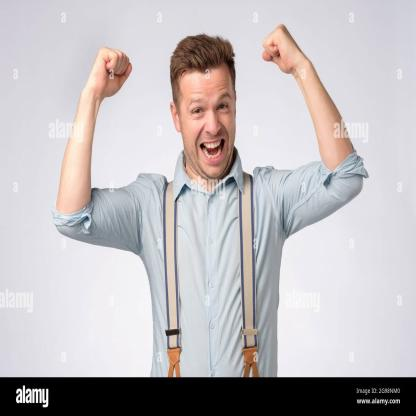fist: (80, 30, 142, 111), (256, 13, 314, 92)
